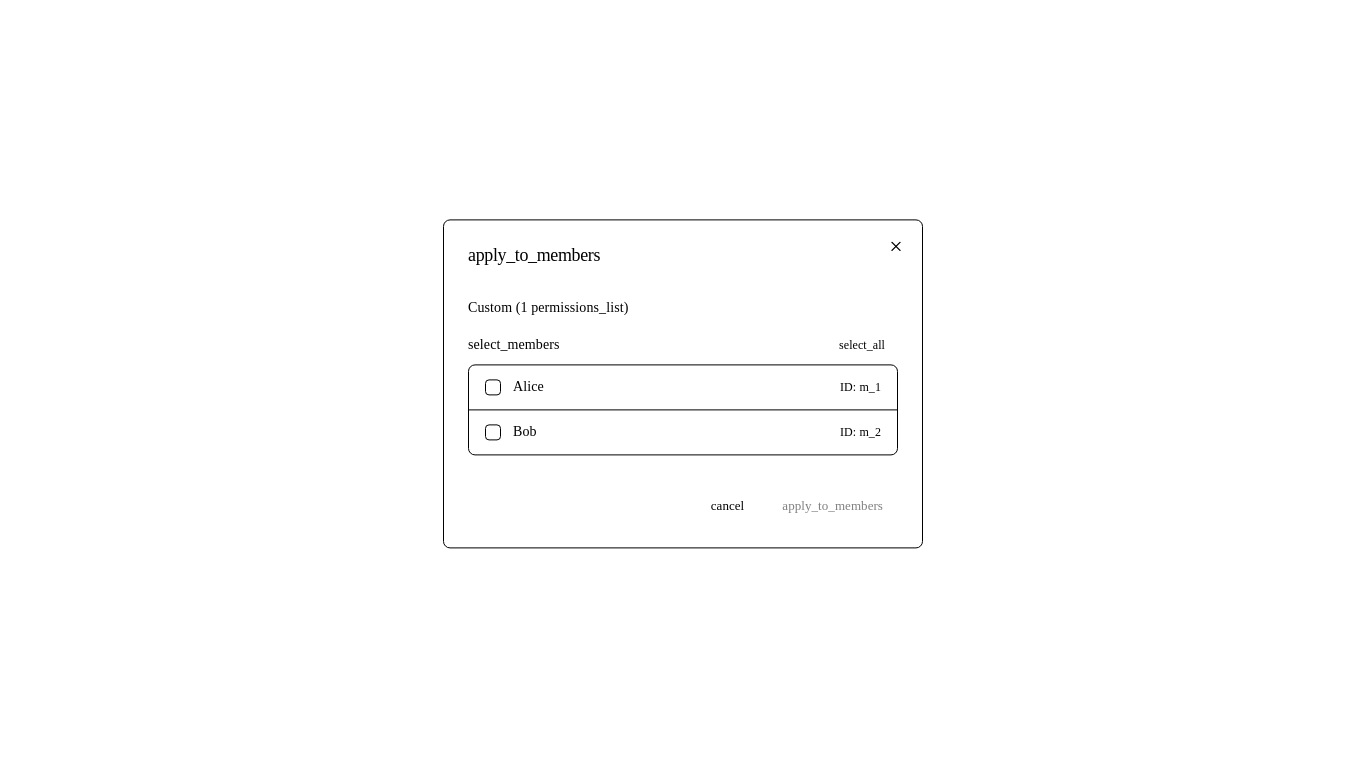
it: ApplyTemplateDialog › keeps dialog open and shows failed member names when apply partially fails
Click the text "Alice". click: point(528, 387)
box: [513,380,544,395]
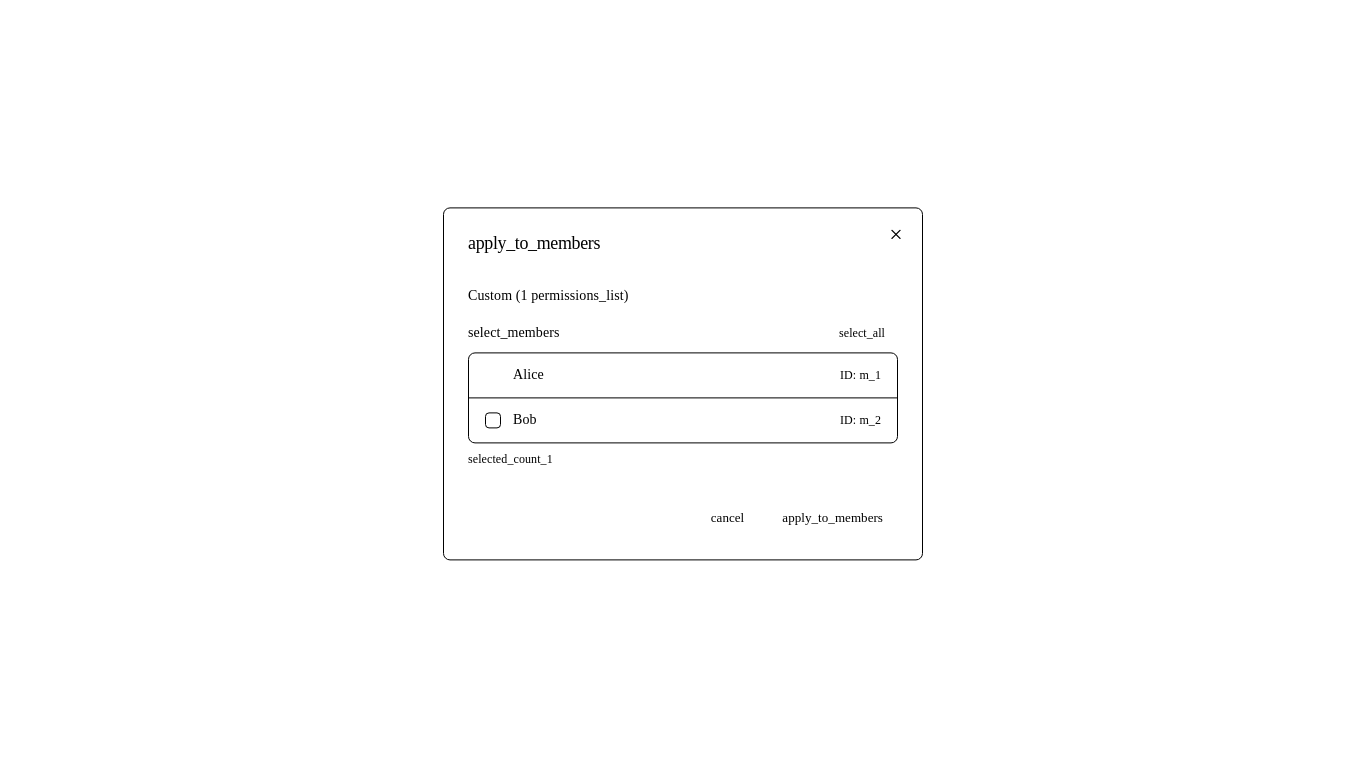
Click the text "Bob". click: point(525, 420)
box: [513,413,537,428]
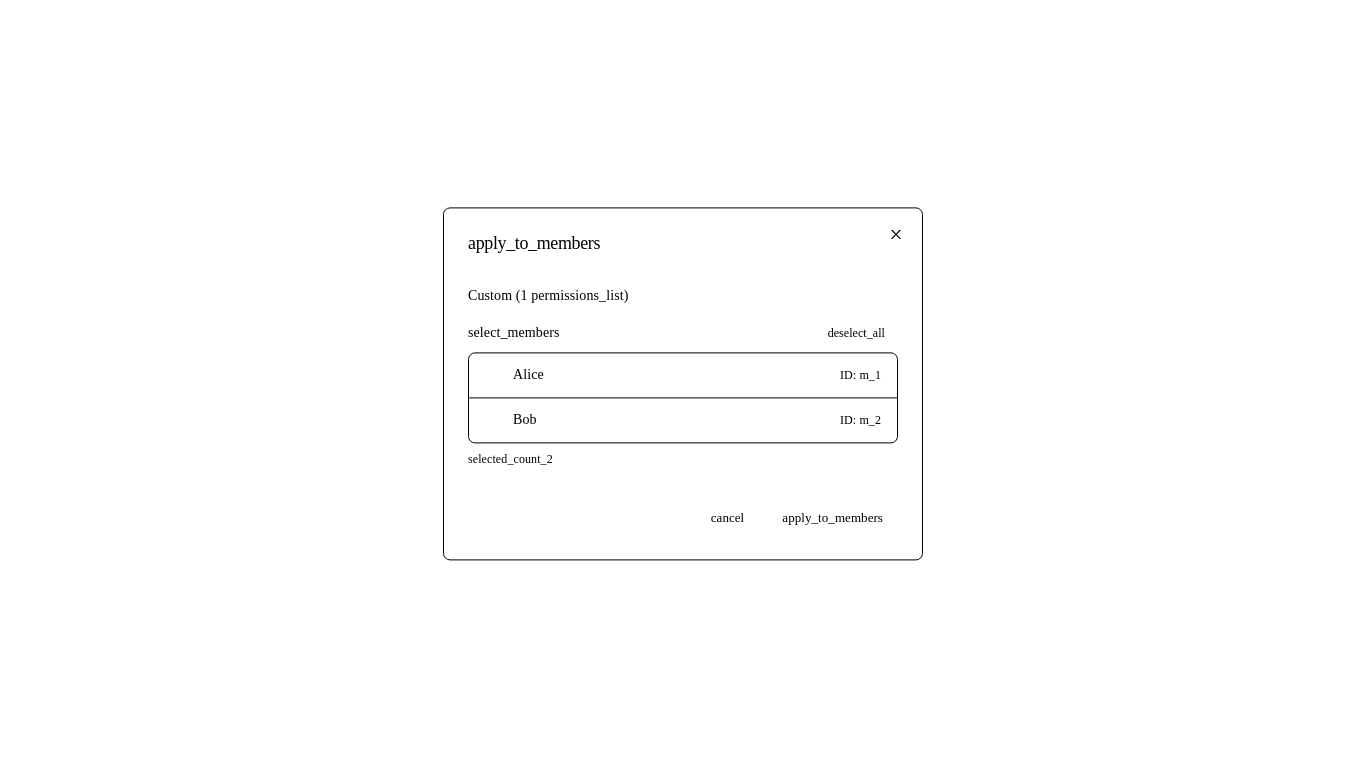
Click the button "apply_to_members". click: point(833, 518)
box: [767,500,898,536]
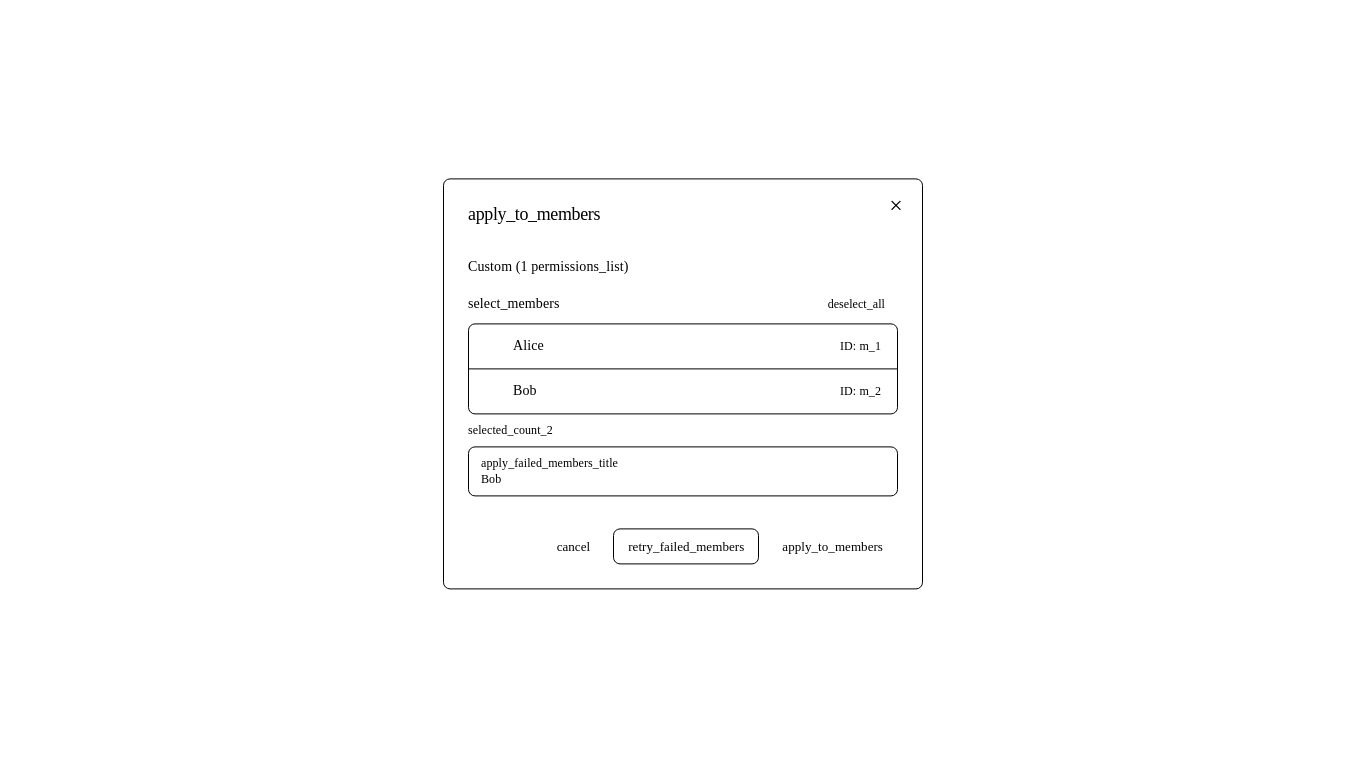
Result: the text "apply_failed_members_title" is shown at [481,457,618,471]
Result: the text "Bob" below "apply_failed_members_title" is shown at [481,473,501,487]
